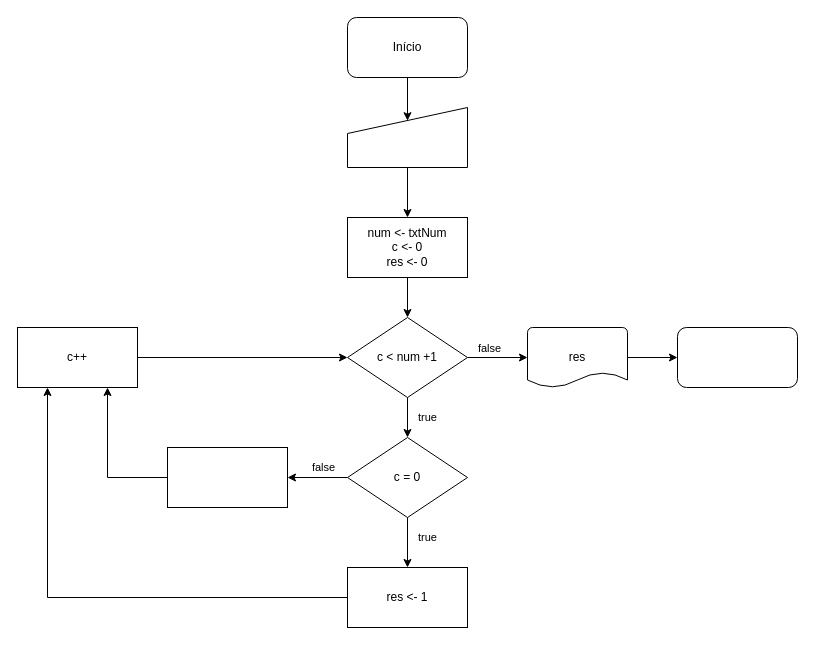
The diagram is 815 pixels wide and 645 high, and some of its shapes have lost their labels. Here are the shapes that lost their labels. From the top down, the centre of each, then its label:
[407,137]: txtNum
[737,357]: Fim
[227,477]: res <- res * c
